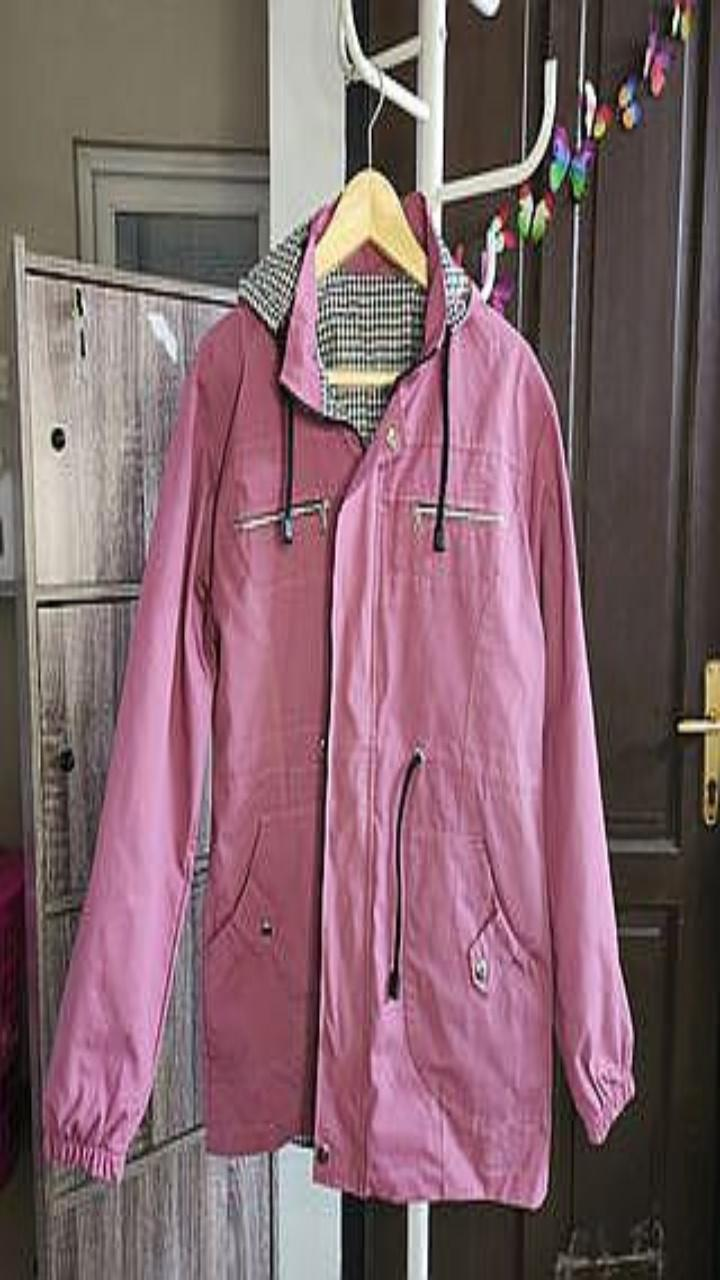Coat: (43, 192, 633, 1207)
